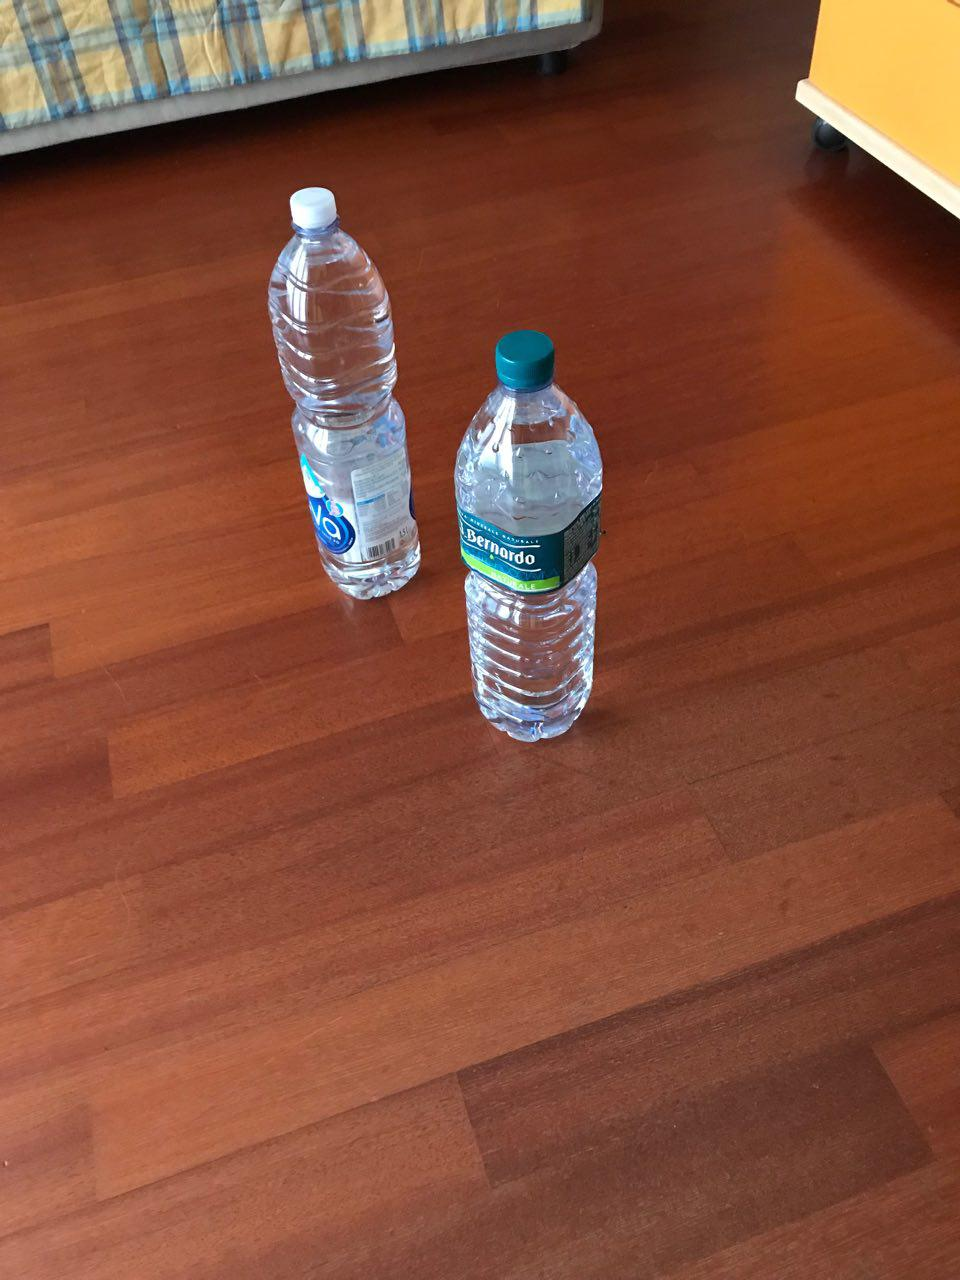san_bernardo: (452, 327, 605, 743)
